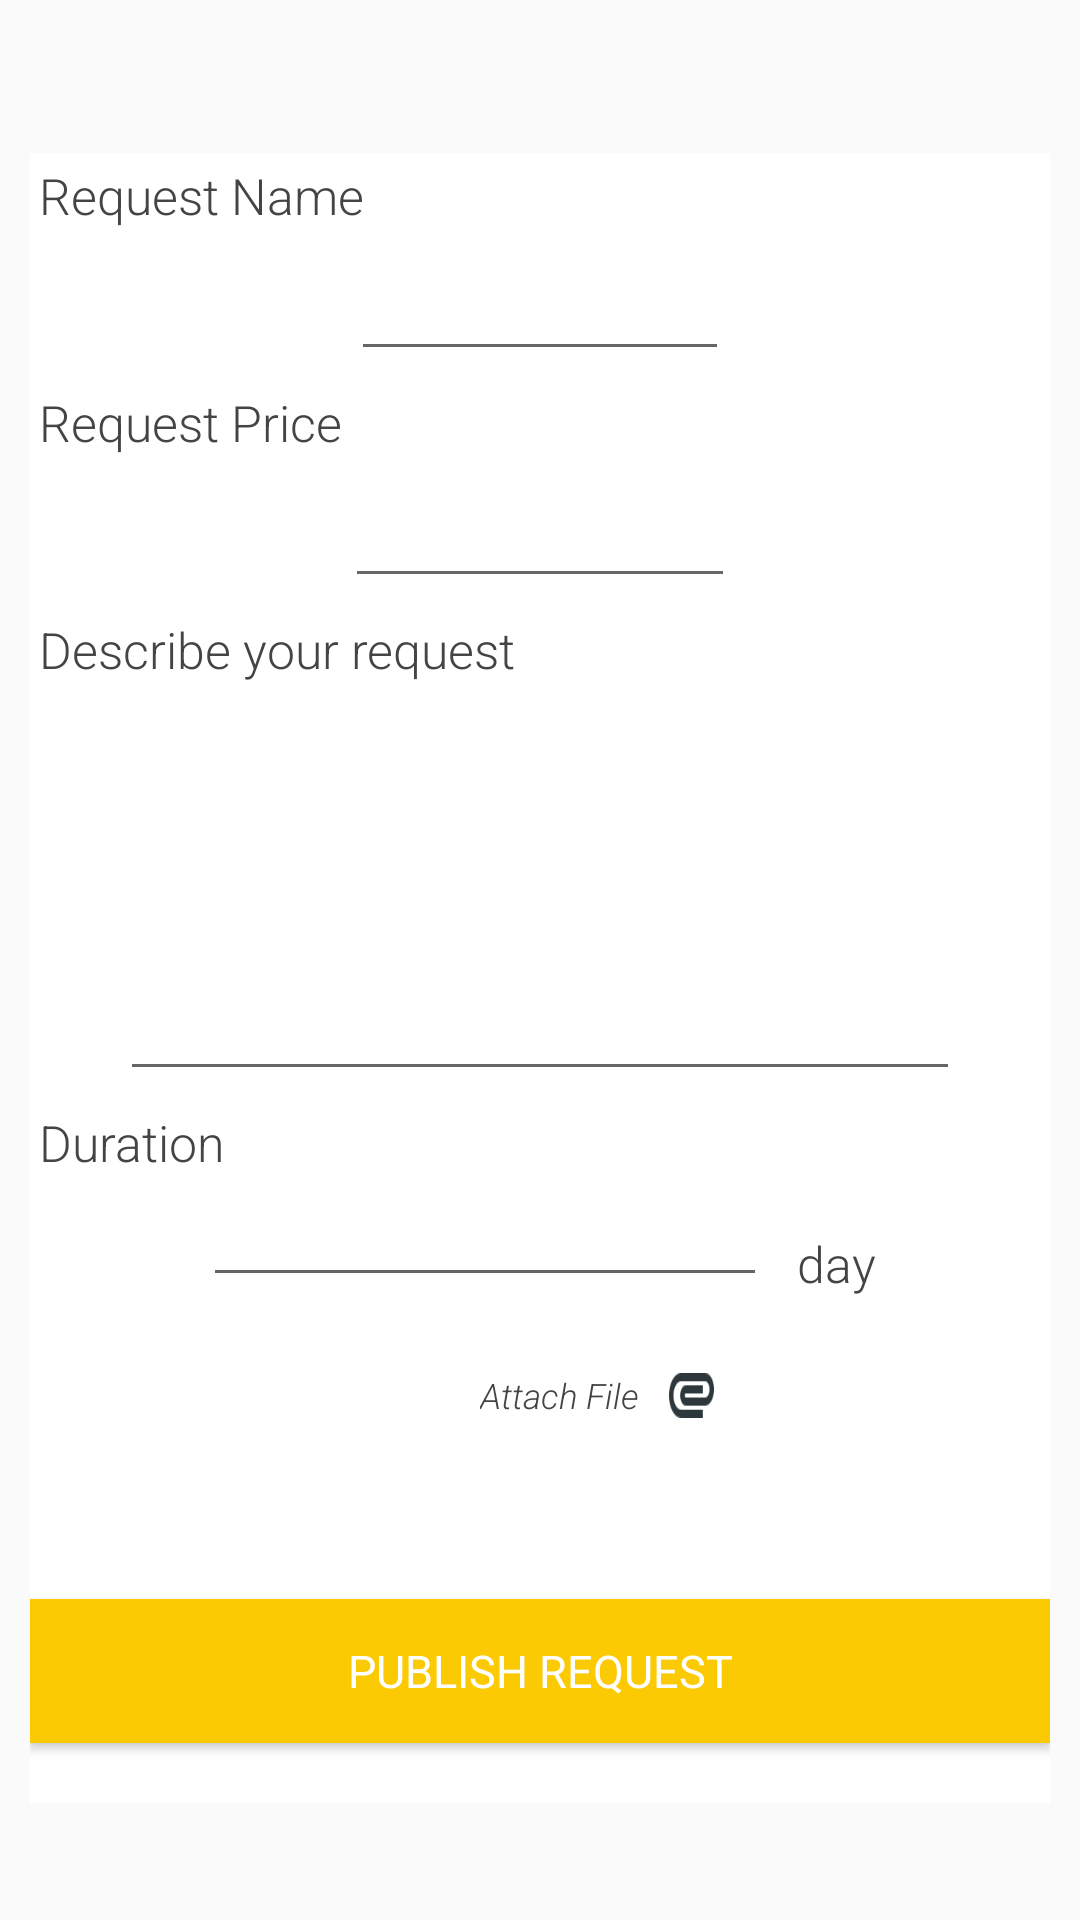

Icon click points for this 1080 × 1920 phone screenshot, format point (x, y):
attachment: point (691, 1395)
